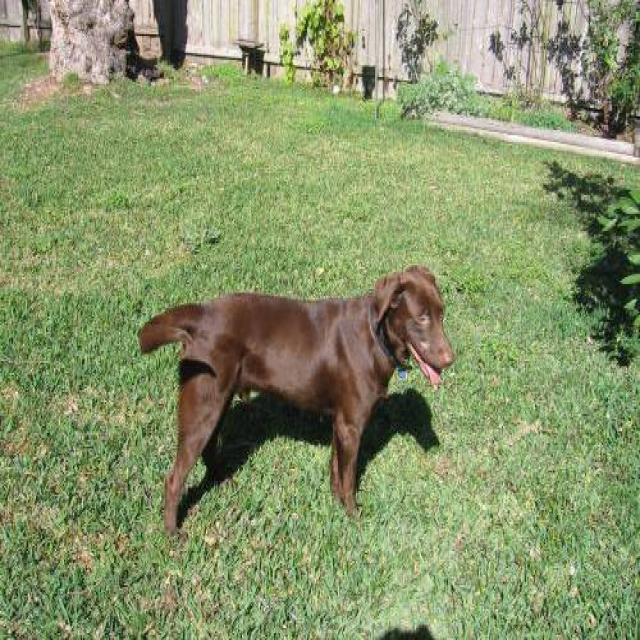dog: (137, 263, 454, 534)
